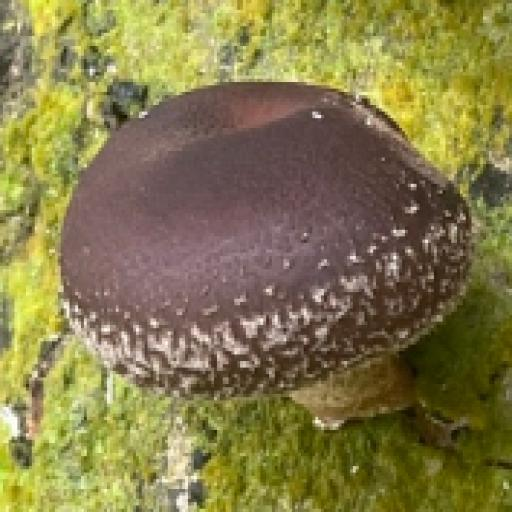Shiitake Mushroom: (49, 46, 487, 430)
